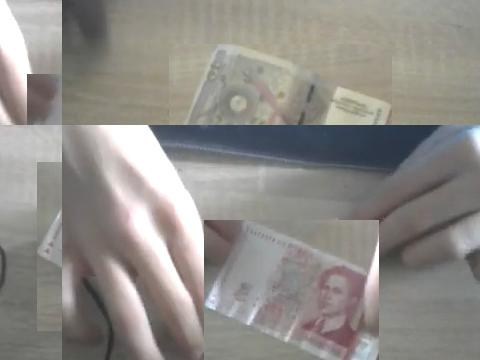10leva: (180, 44, 392, 125)
5leva: (204, 220, 379, 360)
